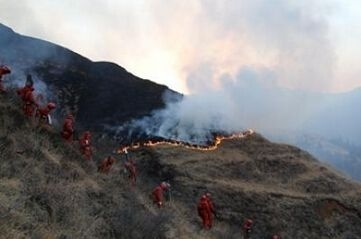fire: (115, 129, 259, 154)
